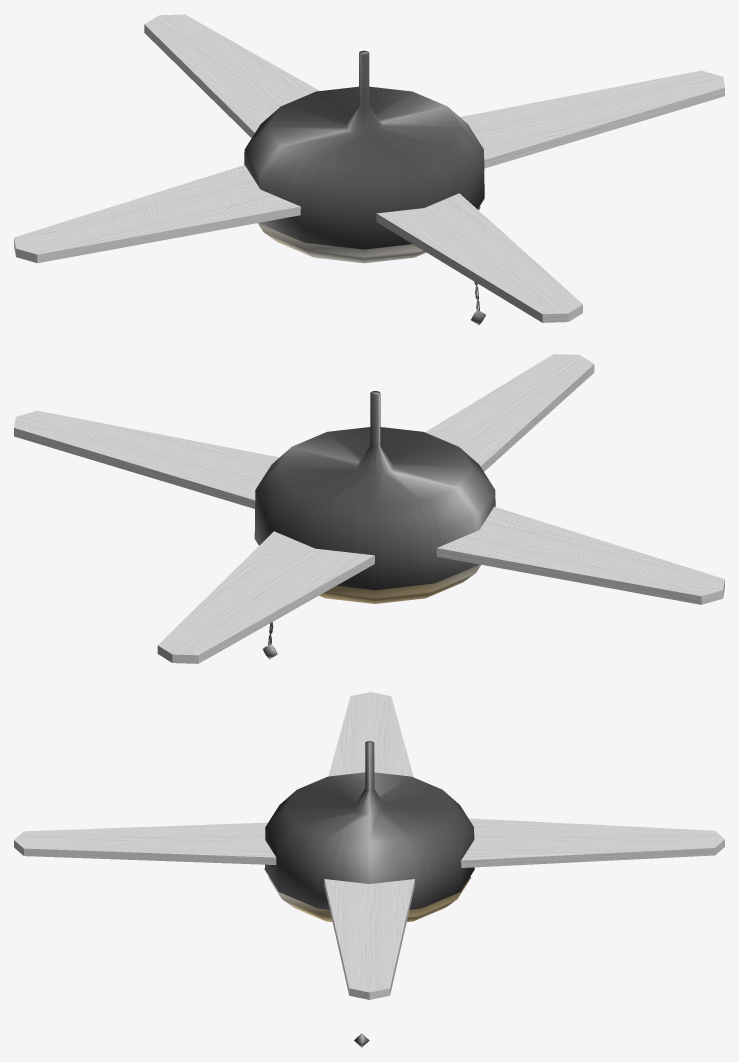
File: Ceiling_Fan_A.FBX
3 views of the same model, one above another, from view 1: azimuth 30°, elevation 25°; view 2: azimuth 150°, elevation 25°; view 3: azimuth 270°, elevation 25° (orthographic). The views are drawn at different scales.
Visible parts, largest first — view 1: Fan_Blades, Ceiling_Fan; view 2: Fan_Blades, Ceiling_Fan; view 3: Fan_Blades, Ceiling_Fan.
Boxes of the visible parts, x1,y1,x2,y2 form: Fan_Blades: (14,14,724,322); Ceiling_Fan: (244,50,485,324); Fan_Blades: (14,354,724,663); Ceiling_Fan: (254,391,495,659); Fan_Blades: (14,692,724,999); Ceiling_Fan: (264,741,474,1047).
Size of the model in its own units: 409 by 164 by 409.
